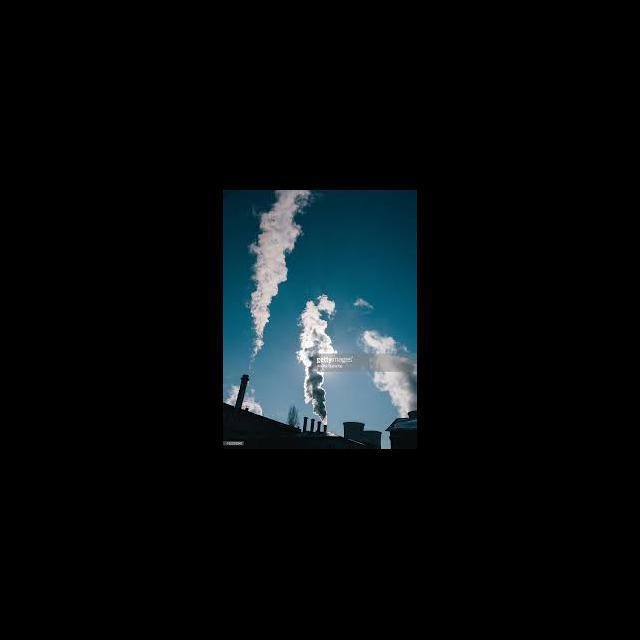Smoke: (250, 192, 310, 364), (302, 296, 333, 418), (377, 374, 416, 412), (358, 331, 399, 353)
